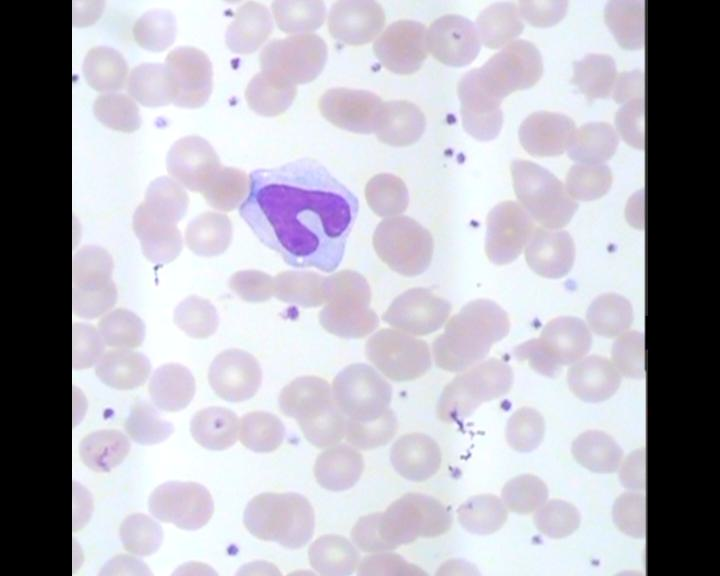mono: (235, 151, 359, 274)
